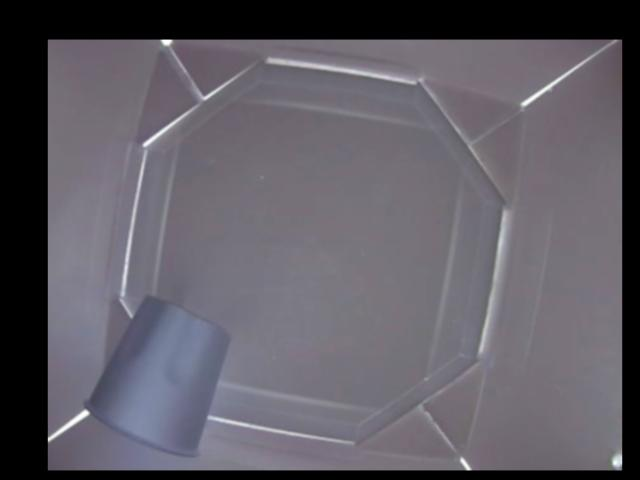Cup: (81, 294, 228, 455)
